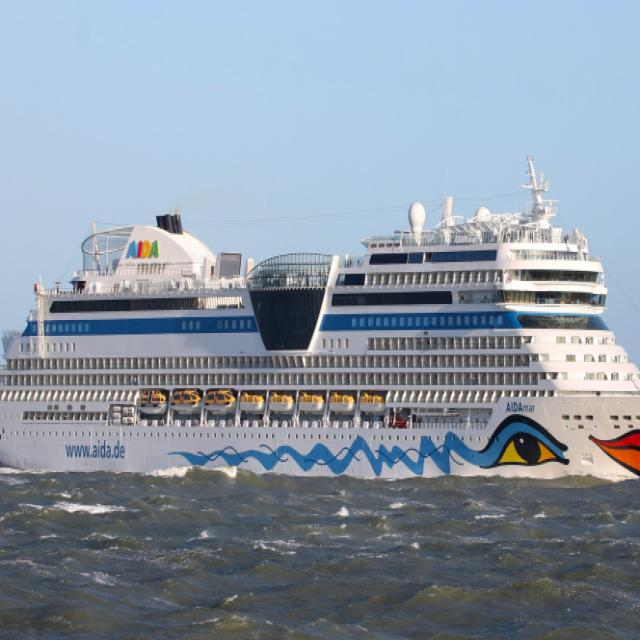cruises: (1, 154, 640, 489)
